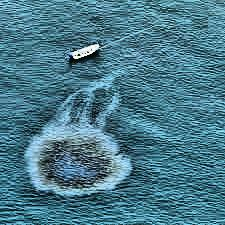sheen: (27, 88, 131, 196)
